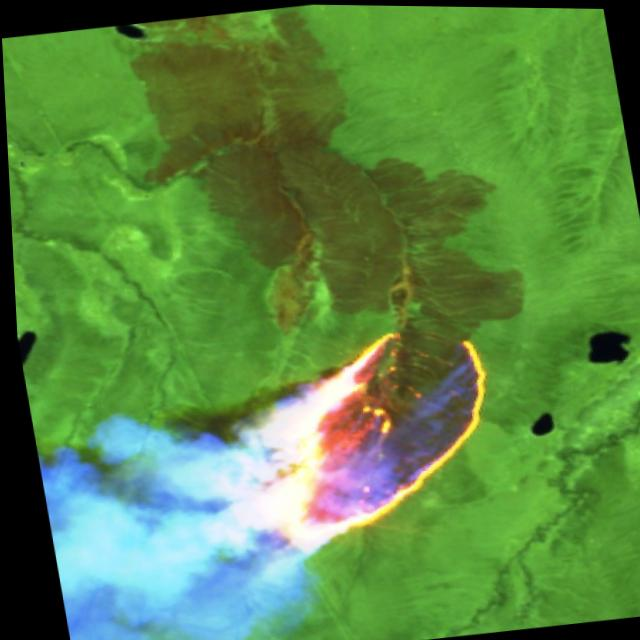fire: (179, 317, 520, 576)
